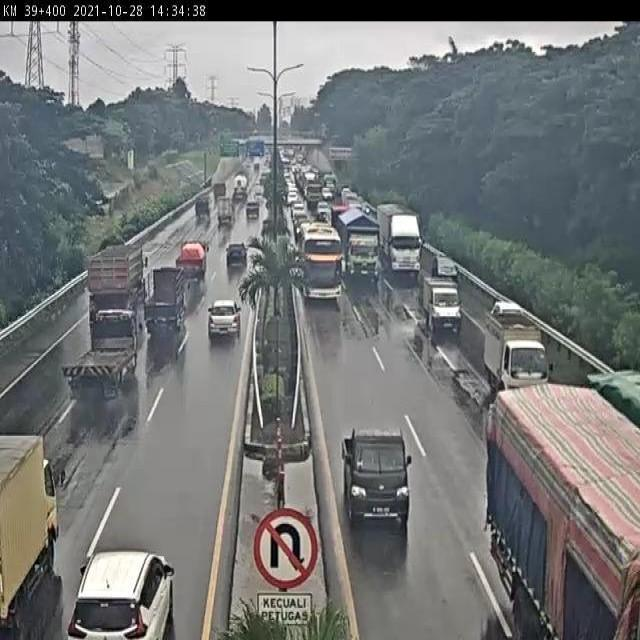big bus: (87, 240, 146, 316), (296, 222, 345, 302)
big truck: (476, 386, 640, 640), (377, 198, 423, 278), (337, 212, 380, 279)
car: (70, 552, 177, 640), (342, 431, 414, 526), (421, 276, 463, 332), (206, 302, 242, 342), (223, 241, 250, 268), (315, 202, 334, 222), (292, 202, 307, 218)
small truck: (0, 432, 62, 627), (65, 309, 142, 396), (482, 305, 554, 396), (141, 267, 185, 333), (175, 240, 211, 280)
